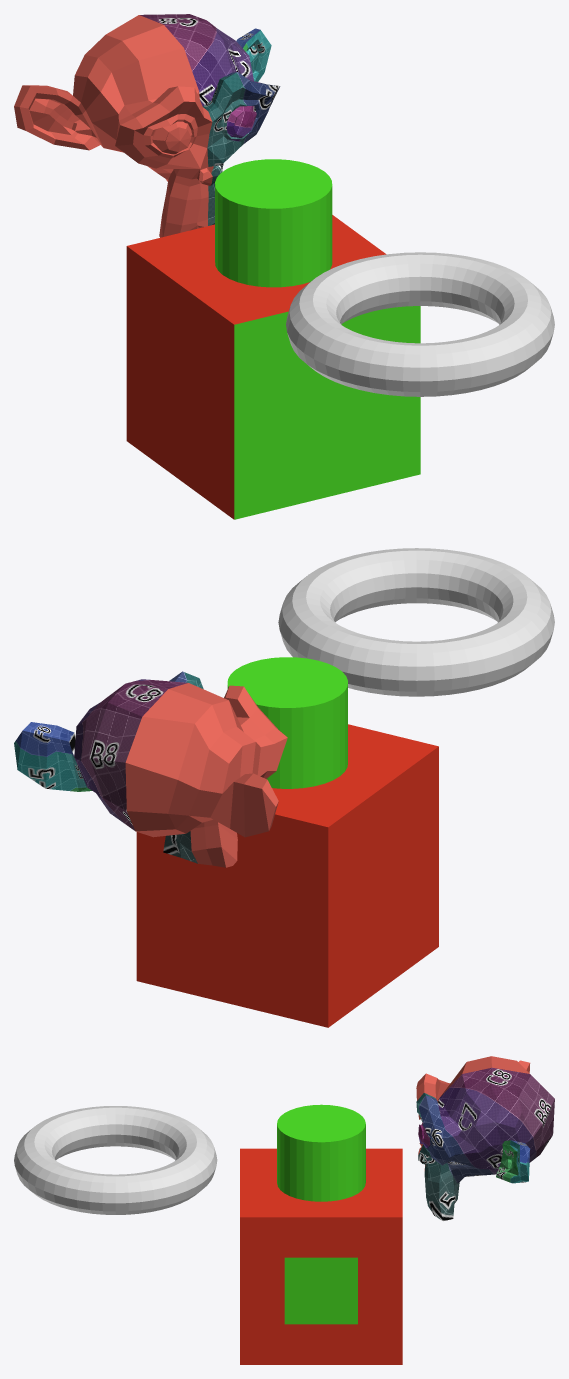
Rendered from combined-image-7dc4e4a0.glb.
3 renders of one model, top to bottom at view 1: azimuth 30°, elevation 25°; view 2: azimuth 150°, elevation 25°; view 3: azimuth 270°, elevation 25°, orthographic. The views are drawn at different scales.
Visible parts, largest first — view 1: Cube.001, Torus; view 2: Cube.001, Torus; view 3: Cube.001, Torus.
Boxes of the visible parts, <box> form: Cube.001: <box>14,14,420,519</box>; Torus: <box>286,252,554,396</box>; Cube.001: <box>14,657,438,1027</box>; Torus: <box>278,548,554,696</box>; Cube.001: <box>240,1056,554,1364</box>; Torus: <box>14,1106,217,1214</box>.
Bounding box in the file's own units: 2.73 × 3.58 × 6.65.
4 materials, 1 textured.
